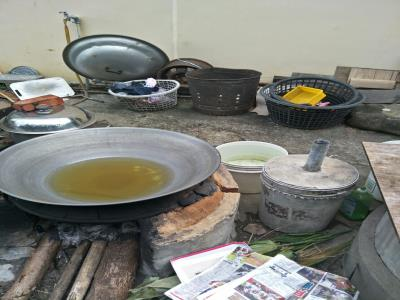bowl: (212, 138, 287, 195), (279, 83, 329, 108)
bucket: (180, 65, 262, 118)
plate: (3, 126, 224, 208), (61, 33, 171, 85)
